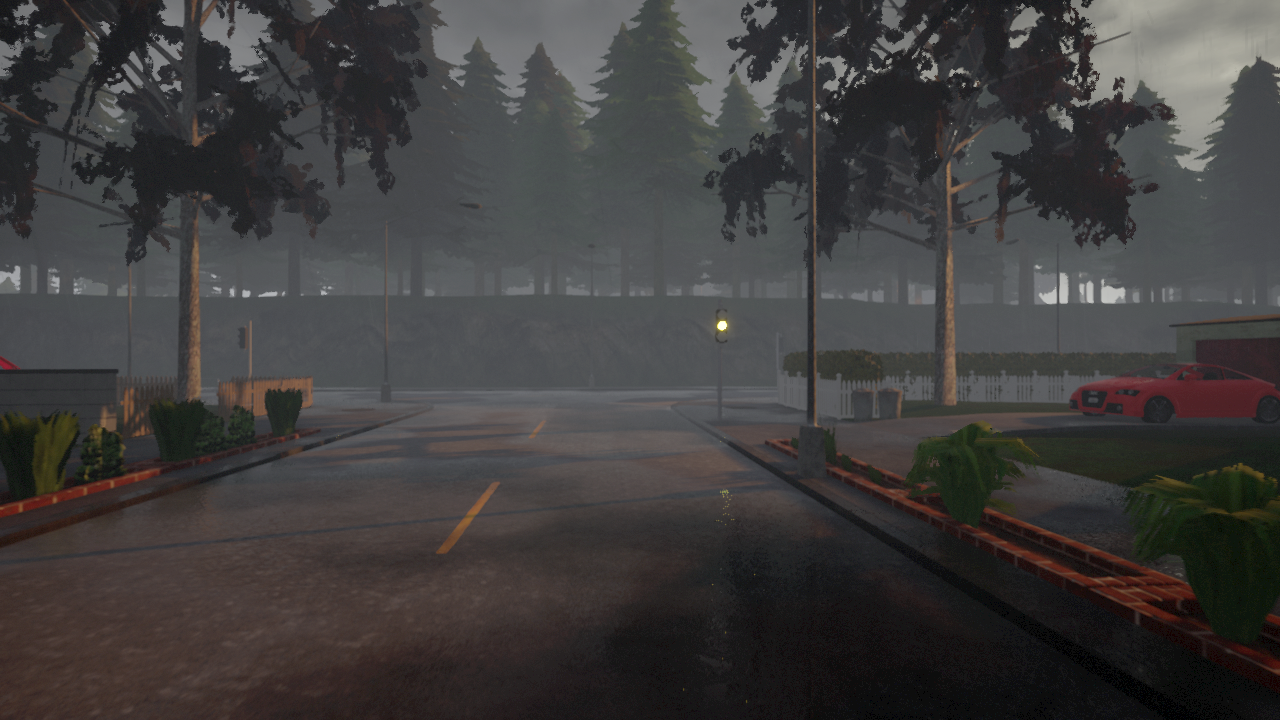yellow: (714, 307, 729, 343)
